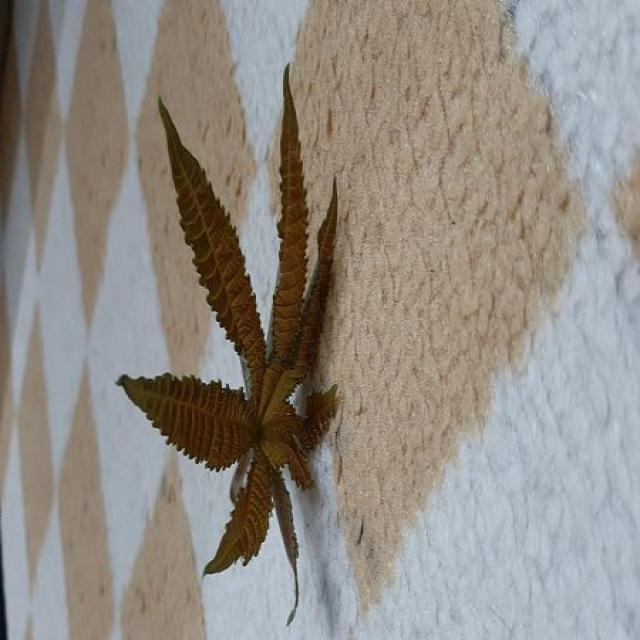wilt: (118, 69, 337, 581)
